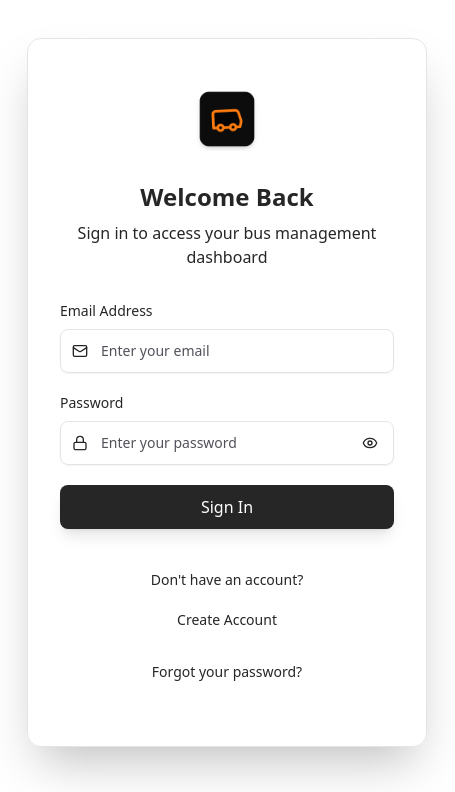
Test: AuthForm › shows success message on signup
Click the button "Create Account": x=227, y=620 [161,602,293,638]
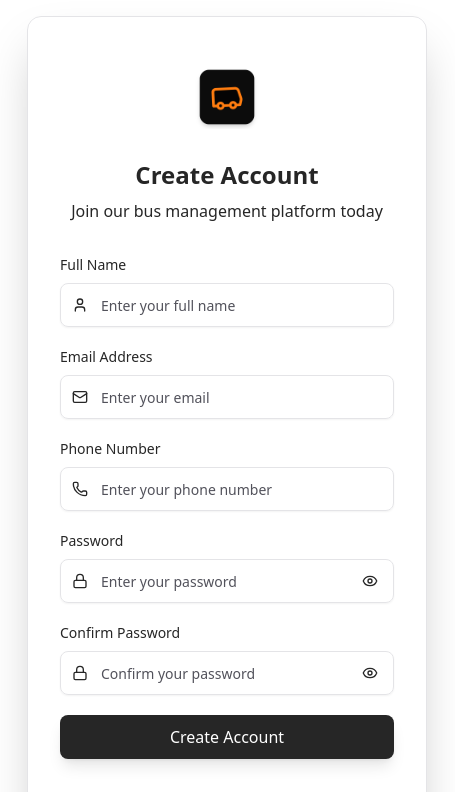
In the field labelled "Full Name": x=227, y=305 [60,283,394,327], type "John Doe"
In the field labelled "Email Address": x=227, y=397 [60,375,394,419], type "john@example.com"
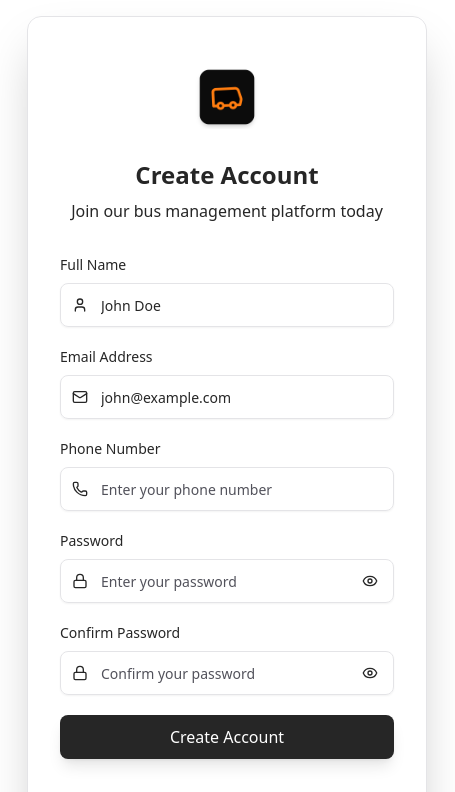
In the field labelled "Phone Number": x=227, y=489 [60,467,394,511], type "+1234567890"
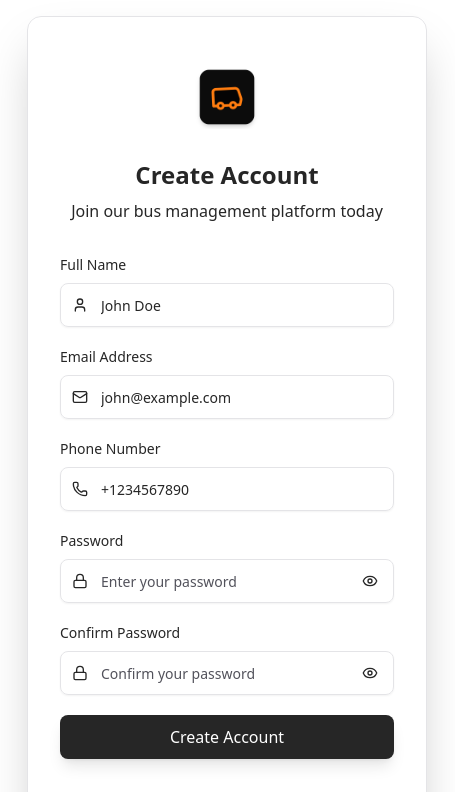
In the password field labelled "Password": x=227, y=581 [60,559,394,603], type "password123"
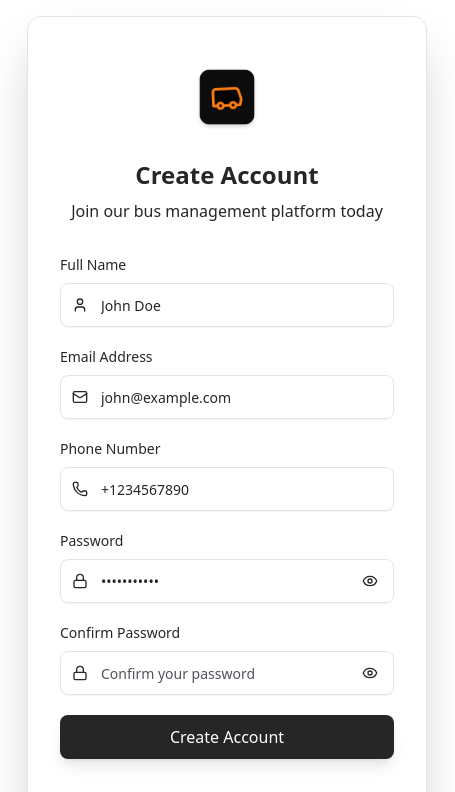
In the password field labelled "Confirm Password": x=227, y=673 [60,651,394,695], type "password123"
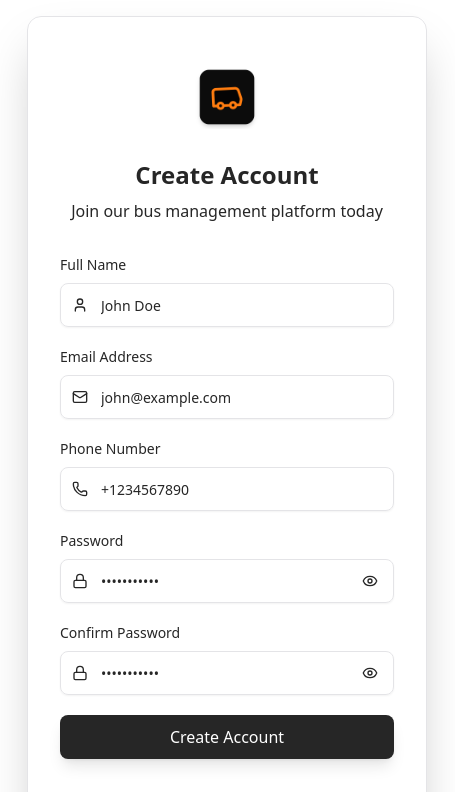
Click the button "Create Account": x=227, y=737 [60,715,394,759]
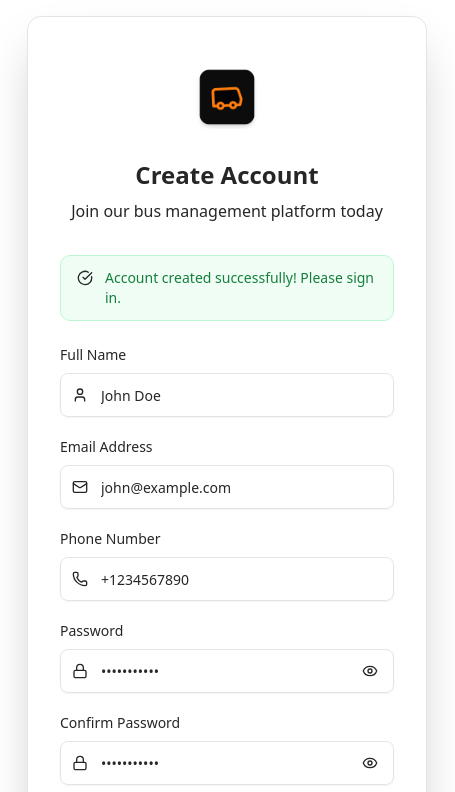
expect the text "Account created successfully! Please sign in." is shown: met, box [105,268,377,308]
